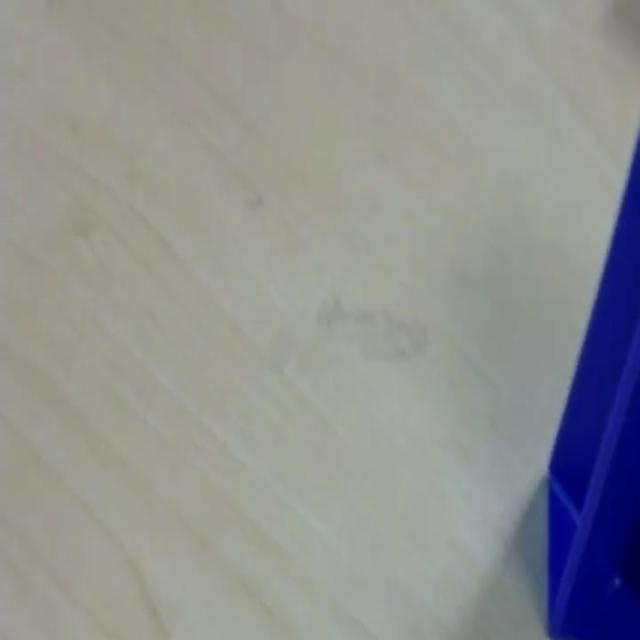blue_block: (544, 124, 638, 636)
